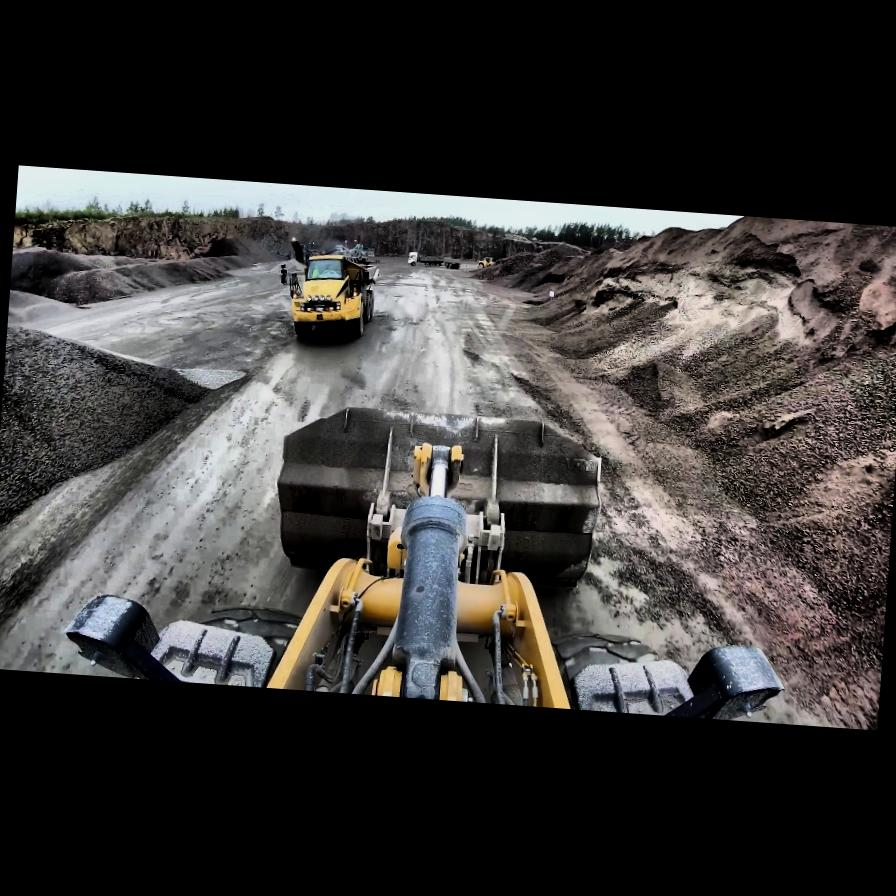anchor: (412, 442, 464, 499)
pile of gravel: (509, 201, 896, 496), (0, 318, 247, 569), (9, 232, 257, 323), (477, 235, 588, 298)
